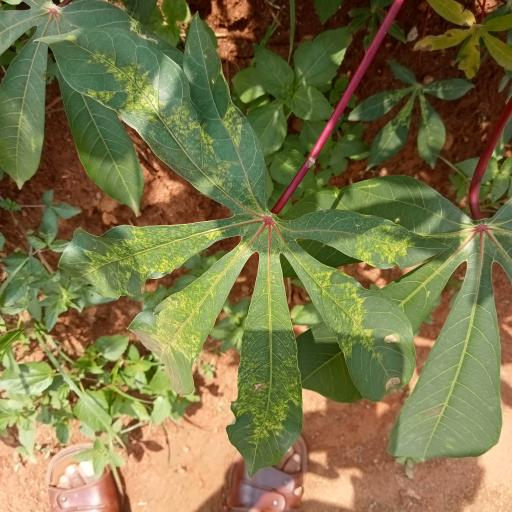Cassava_Mosaic: (63, 18, 421, 436)
